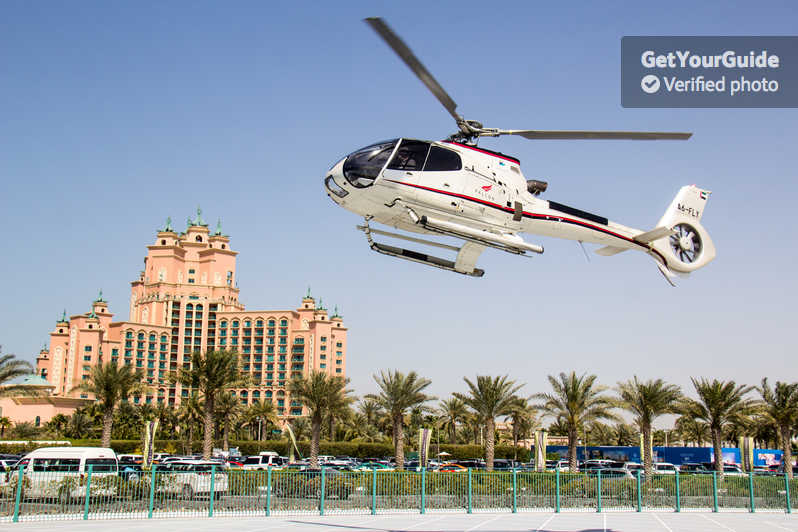Helicopter: (332, 17, 724, 287)
